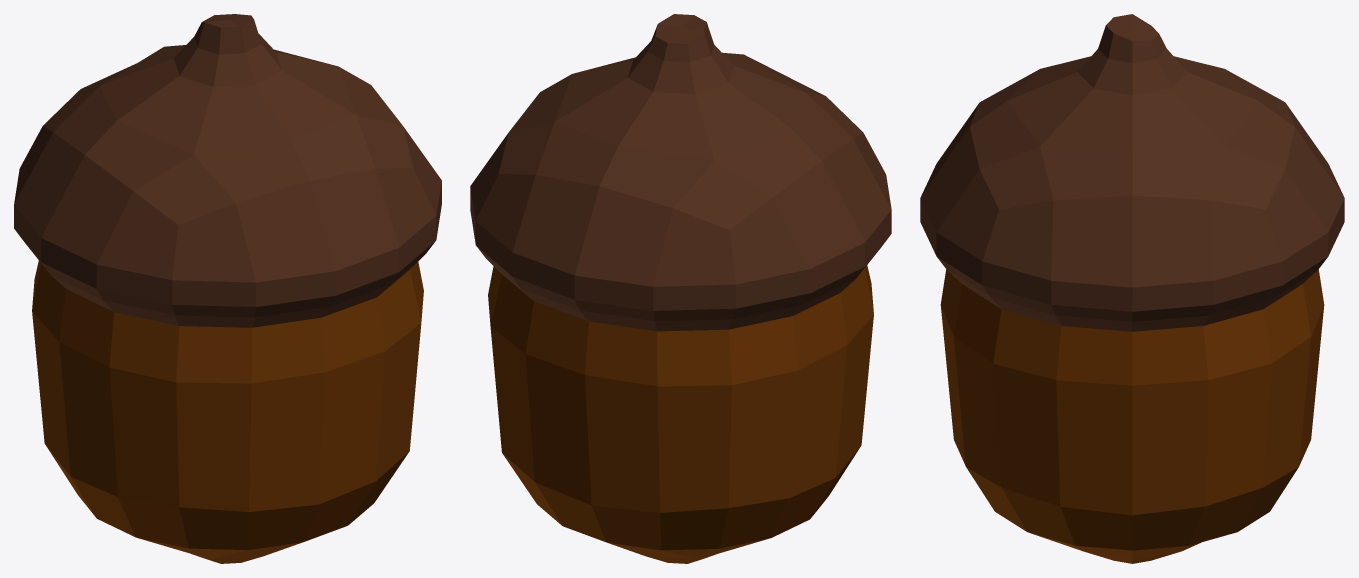
Rendered from Acorn.fbx.
3 views of the same model, side by side, from view 1: azimuth 30°, elevation 25°; view 2: azimuth 150°, elevation 25°; view 3: azimuth 270°, elevation 25° (orthographic).
Parts seen in each view (by area): view 1: Acorn; view 2: Acorn; view 3: Acorn.
Part boxes in pixels (x1,y1,x2,y2): Acorn: (14, 14, 441, 563); Acorn: (470, 14, 891, 563); Acorn: (920, 14, 1344, 563).
Size of the model in its own units: 186 by 259 by 186.
